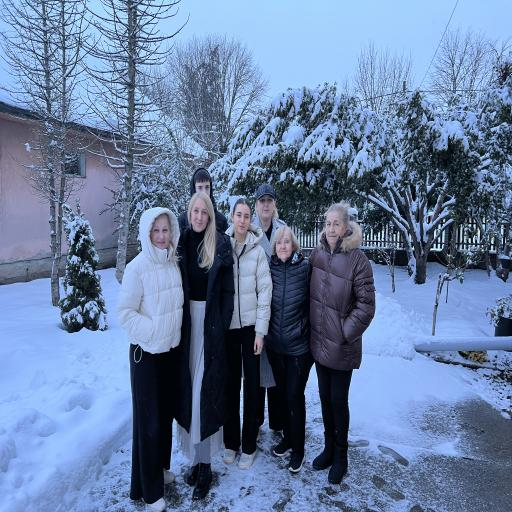masa: (232, 202, 250, 236)
